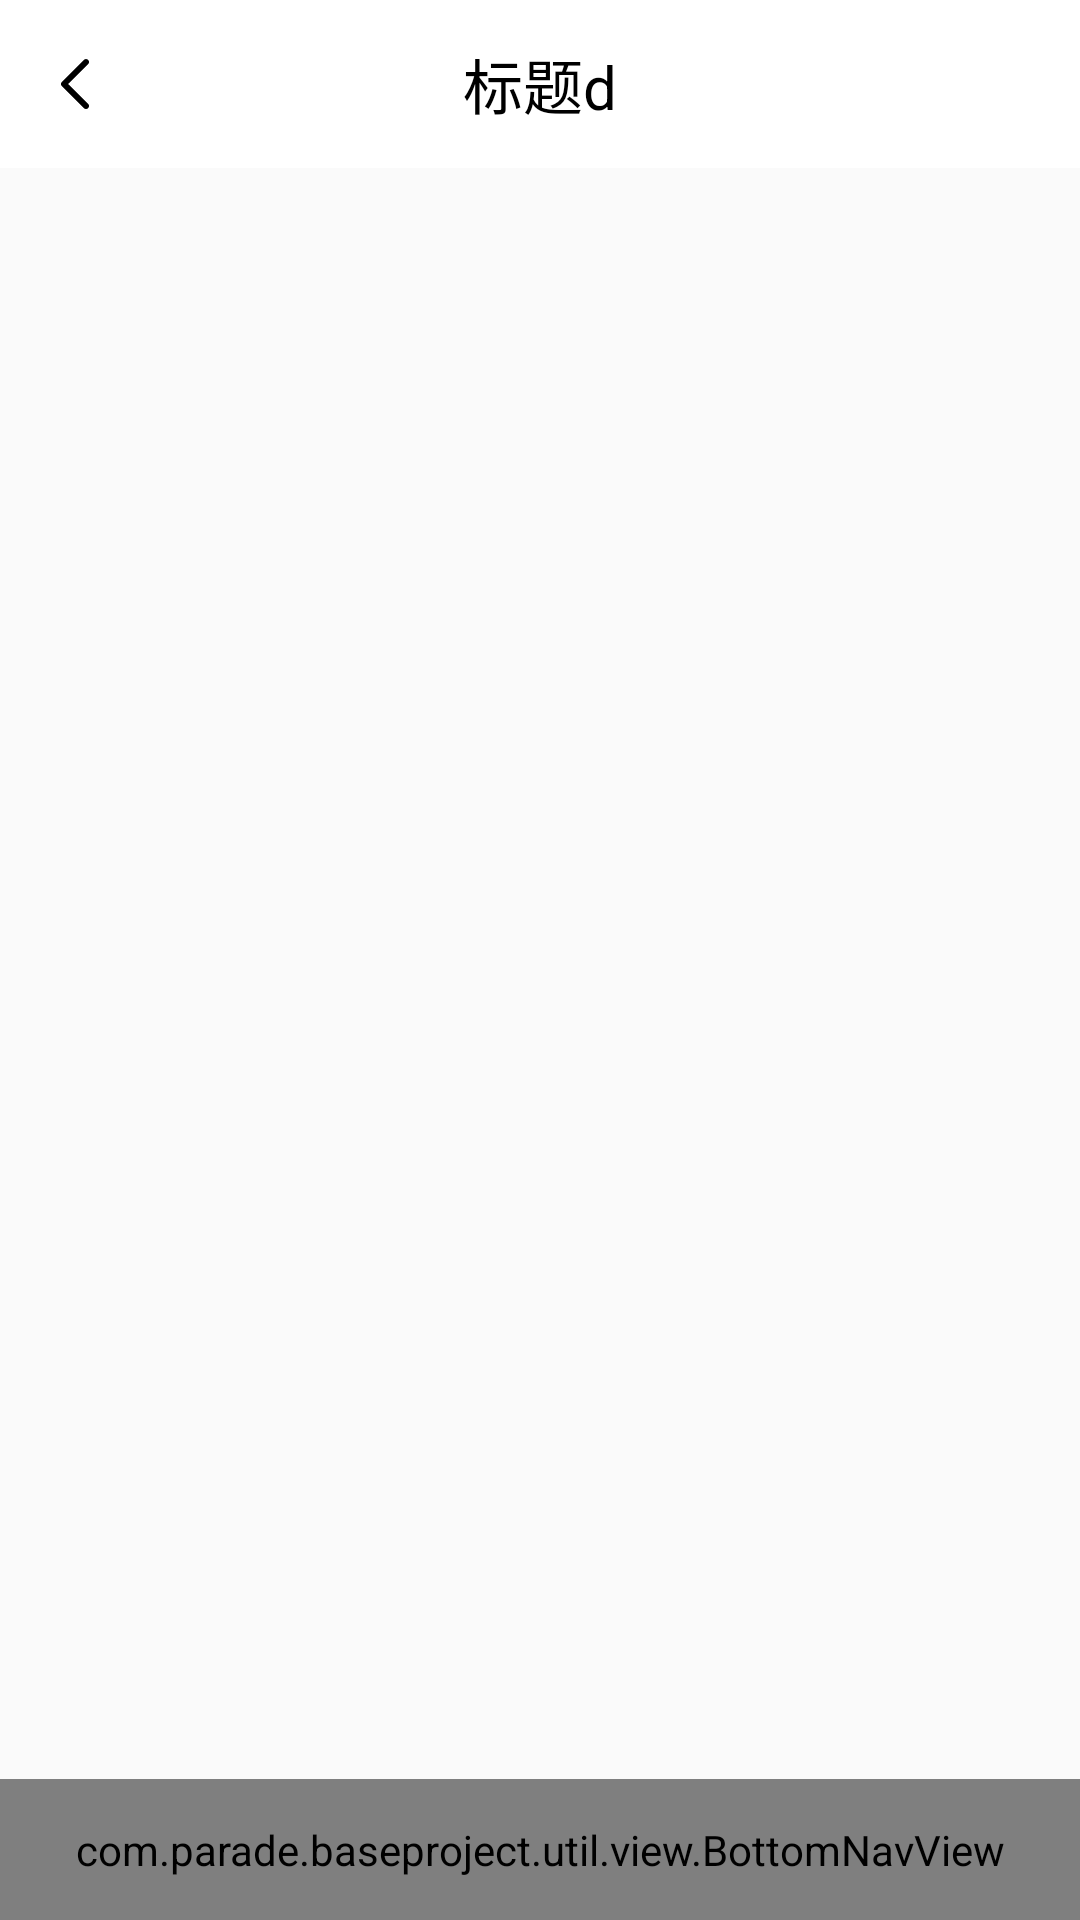

Point at icon controls on the screen. Image size 1080 × 1920, points as (x=x, y=y).
return: (x=75, y=84)
